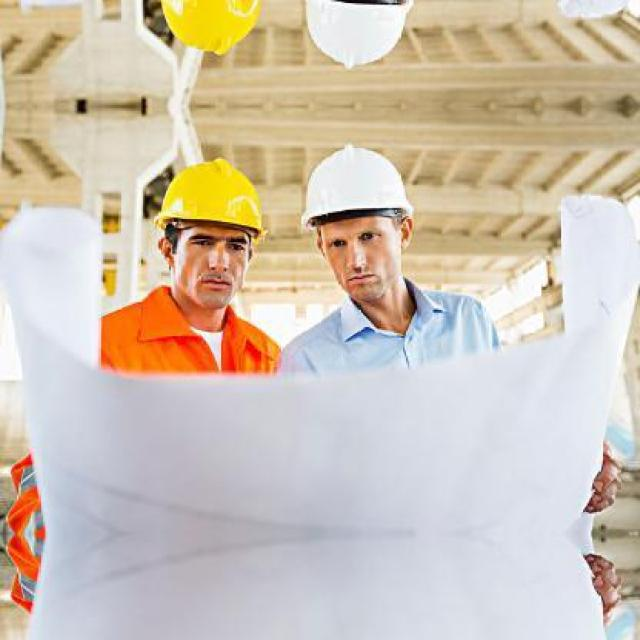helmet: (289, 137, 423, 245), (152, 150, 272, 246)
